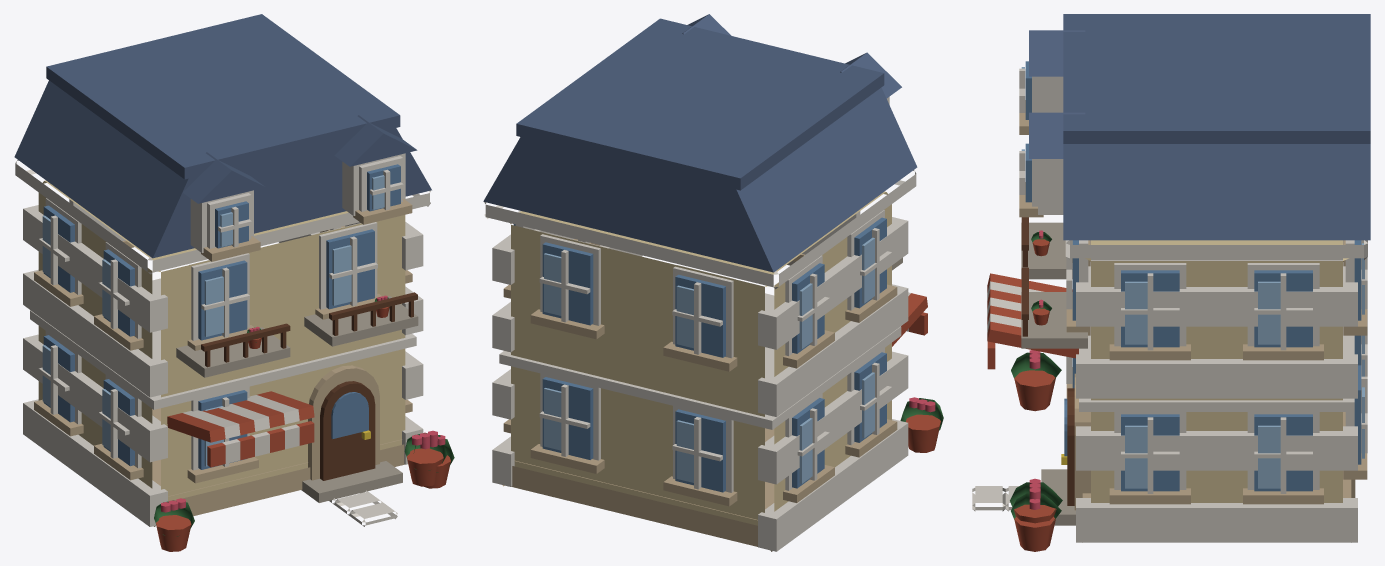
The model's file is building-small-a.glb.
3 views of the same model, side by side, from view 1: azimuth 30°, elevation 25°; view 2: azimuth 150°, elevation 25°; view 3: azimuth 270°, elevation 25° (orthographic). The views are drawn at different scales.
Visible parts, largest first — view 1: building-small-a; view 2: building-small-a; view 3: building-small-a.
Part boxes in pixels (x1,y1,x2,y2): building-small-a: (14, 14, 454, 551); building-small-a: (483, 14, 943, 551); building-small-a: (972, 14, 1370, 551).
Bounding box in the file's own units: 0.8157 × 0.9667 × 0.8601.
